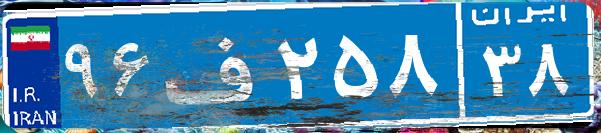2: (273, 28, 330, 110)
3: (475, 38, 525, 113)
5: (330, 28, 385, 110)
6: (110, 28, 158, 105)
8: (385, 28, 445, 110), (525, 38, 570, 115)
9: (57, 26, 110, 107)
ف: (158, 15, 273, 115)
